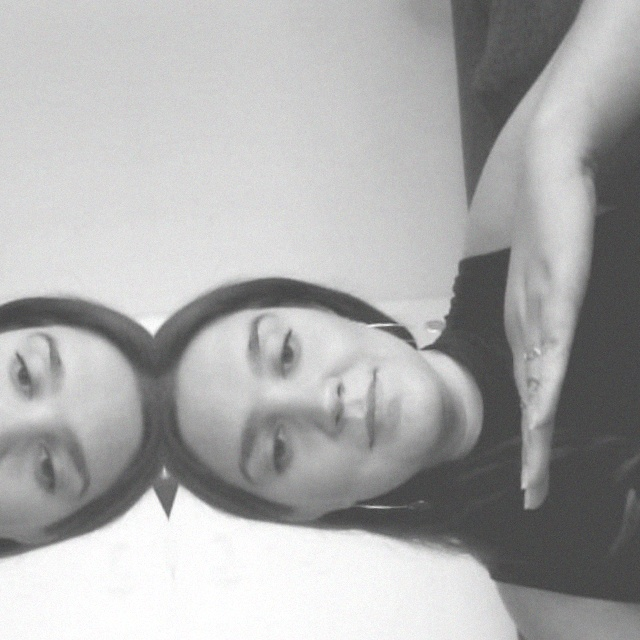Paper: (473, 171, 636, 504)
